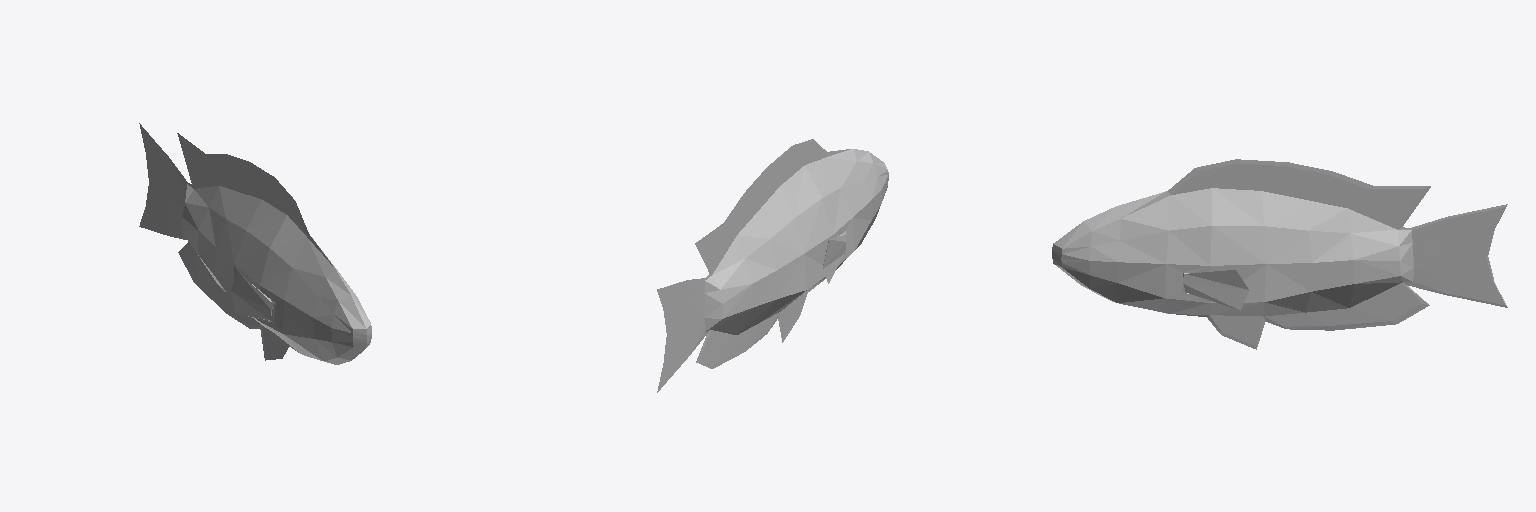
Rendered from fish.obj.
The picture shows the model from 3 angles: view 1: azimuth 30°, elevation 25°; view 2: azimuth 150°, elevation 25°; view 3: azimuth 270°, elevation 25°; orthographic projection.
Parts seen in each view (by area): view 1: FISH_Plane; view 2: FISH_Plane; view 3: FISH_Plane.
Boxes of the visible parts, x1,y1,x2,y2 form: FISH_Plane: [139, 123, 371, 364]; FISH_Plane: [657, 139, 888, 392]; FISH_Plane: [1052, 159, 1507, 349].
Size of the model in its own units: 0.1473 by 0.3323 by 0.7201.